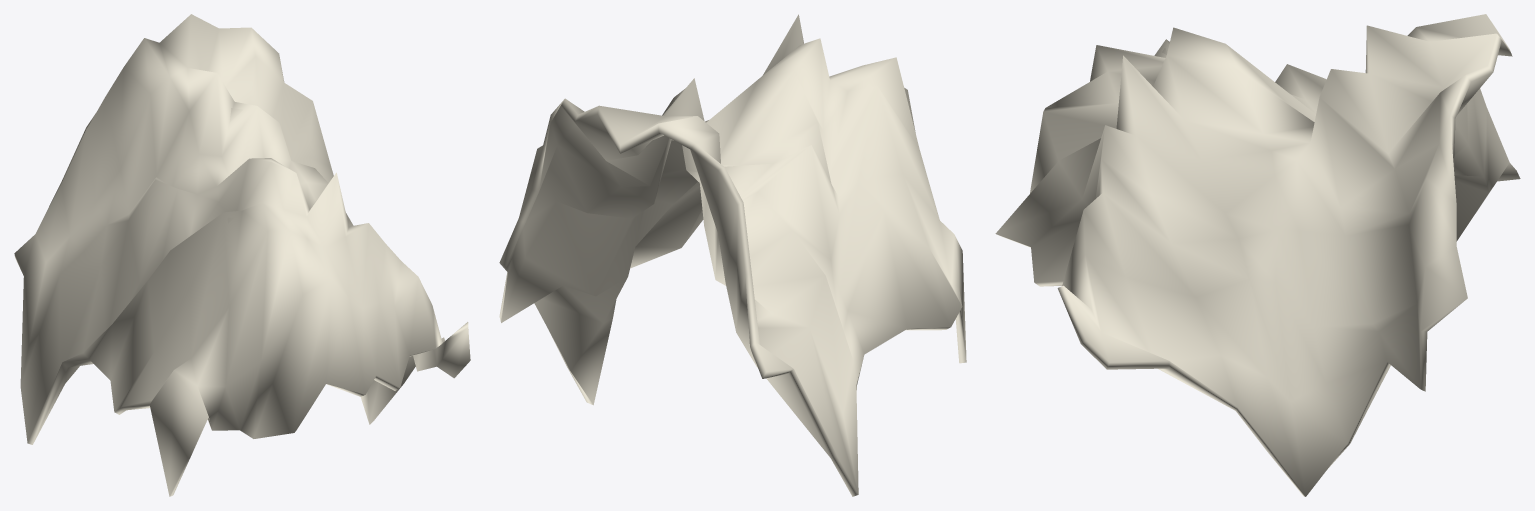
File: animated_sterile_towel_crumple2.fbx
The picture shows the model from 3 angles, left to right: view 1: azimuth 30°, elevation 25°; view 2: azimuth 150°, elevation 25°; view 3: azimuth 270°, elevation 25°; orthographic projection. The views are drawn at different scales.
Parts seen in each view (by area): view 1: Animated_Sterile_Towel_Crumple; view 2: Animated_Sterile_Towel_Crumple; view 3: Animated_Sterile_Towel_Crumple.
Boxes of the visible parts, <box> form: Animated_Sterile_Towel_Crumple: <box>14,14,470,496</box>; Animated_Sterile_Towel_Crumple: <box>499,14,966,496</box>; Animated_Sterile_Towel_Crumple: <box>995,14,1520,496</box>.
Size of the model in its own units: 13.12 by 13.83 by 15.95.
